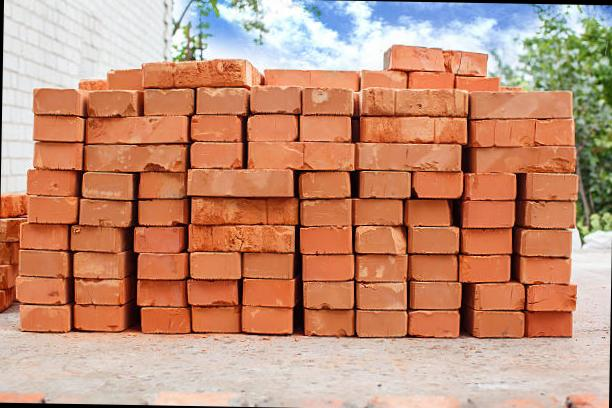brick: (141, 57, 245, 89), (191, 196, 298, 226), (470, 89, 572, 120), (85, 114, 187, 145), (469, 118, 574, 148), (360, 115, 467, 144), (187, 168, 294, 197), (354, 143, 460, 172), (188, 224, 294, 253), (475, 145, 576, 175), (360, 88, 468, 116), (248, 142, 354, 170), (83, 144, 187, 172), (299, 225, 352, 255), (459, 254, 510, 284), (302, 280, 353, 310), (525, 172, 579, 200), (250, 84, 300, 114), (298, 172, 351, 200), (302, 87, 353, 116), (246, 114, 298, 142), (464, 173, 516, 201), (462, 200, 514, 228), (79, 199, 131, 227), (190, 252, 242, 280), (242, 279, 294, 307), (409, 282, 461, 310), (190, 142, 243, 169), (196, 87, 247, 115), (355, 226, 406, 254), (241, 306, 292, 334), (408, 310, 459, 338), (190, 115, 242, 142), (358, 171, 410, 198), (186, 279, 238, 306), (472, 311, 524, 338), (356, 310, 408, 337), (144, 88, 194, 116), (82, 172, 132, 200), (356, 254, 406, 282), (474, 283, 524, 311), (356, 282, 406, 310), (15, 276, 65, 304), (391, 45, 444, 71), (299, 115, 350, 142), (461, 228, 512, 255), (302, 254, 353, 281), (72, 252, 123, 279), (526, 284, 577, 311), (18, 305, 69, 332), (520, 258, 572, 284), (88, 90, 138, 117), (412, 171, 462, 198), (26, 169, 76, 196), (408, 227, 458, 254), (140, 307, 190, 334), (524, 202, 575, 228), (520, 230, 571, 256), (242, 253, 293, 279), (136, 280, 187, 306), (302, 199, 351, 226), (138, 199, 187, 226), (304, 309, 353, 336), (28, 196, 76, 223), (20, 223, 68, 250), (408, 255, 457, 281), (355, 199, 402, 226), (137, 253, 184, 280), (70, 226, 118, 252), (191, 306, 239, 332), (74, 305, 122, 331), (18, 250, 64, 277), (32, 88, 79, 114), (74, 278, 121, 304), (32, 115, 78, 141), (138, 172, 184, 198), (404, 200, 450, 226), (133, 227, 179, 253), (526, 312, 572, 338), (32, 142, 76, 169), (310, 70, 359, 91), (450, 51, 487, 77), (360, 70, 407, 90), (262, 70, 310, 88), (408, 72, 452, 90), (456, 76, 500, 91)
